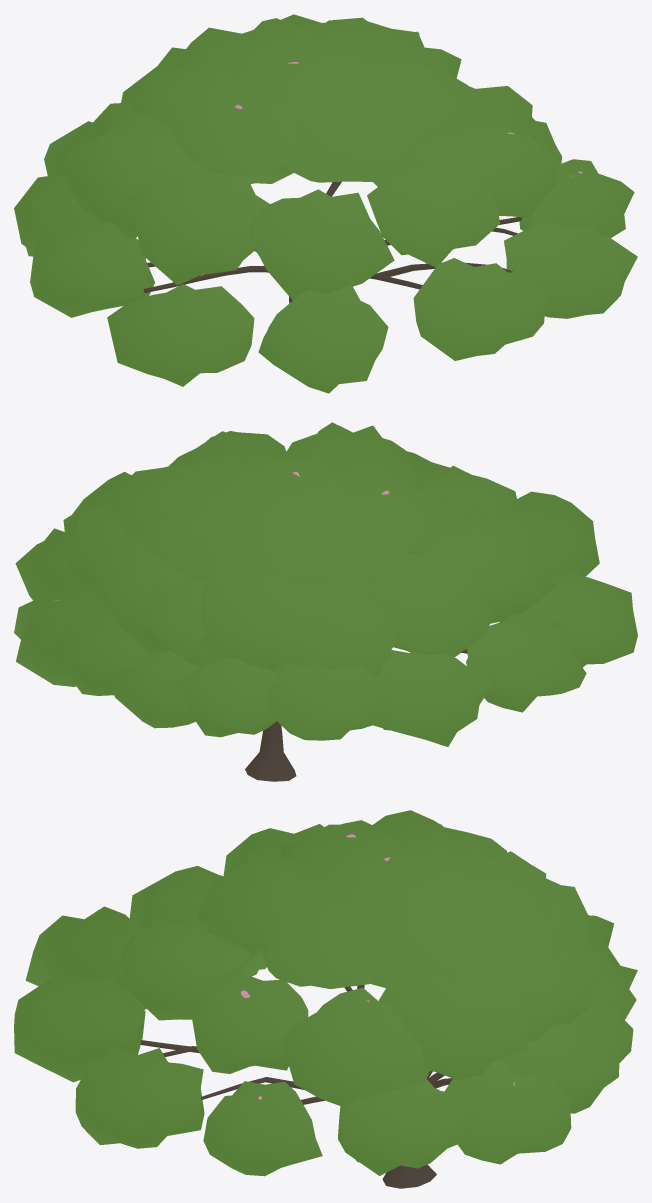
File: Blender_Monkeypod_2.glb
3 renders of one model, top to bottom at view 1: azimuth 30°, elevation 25°; view 2: azimuth 150°, elevation 25°; view 3: azimuth 270°, elevation 25°, orthographic. The views are drawn at different scales.
Visible parts, largest first — view 1: Blender_Monkeypod_2; view 2: Blender_Monkeypod_2; view 3: Blender_Monkeypod_2.
Part boxes in pixels (x1,y1,x2,y2): Blender_Monkeypod_2: (14, 14, 637, 393); Blender_Monkeypod_2: (14, 422, 637, 781); Blender_Monkeypod_2: (14, 810, 637, 1188).
Size of the model in its own units: 29.81 by 16.08 by 28.6.
